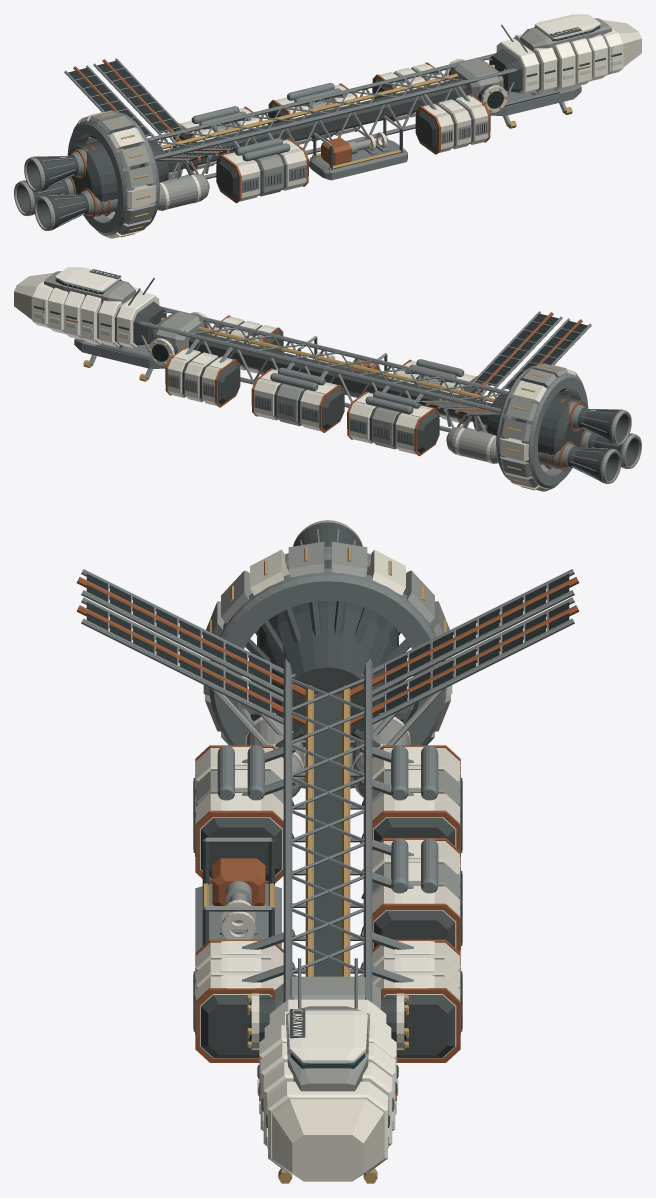
The model's file is caravan-v001.glb.
3 views of the same model, one above another, from view 1: azimuth 30°, elevation 25°; view 2: azimuth 150°, elevation 25°; view 3: azimuth 270°, elevation 25° (orthographic). The views are drawn at different scales.
Visible parts, largest first — view 1: caravan-iron, caravan-graphite, caravan-ash, caravan-chalk, caravan-porcelain, caravan-oxide, caravan-carbon, caravan-brass; view 2: caravan-iron, caravan-graphite, caravan-ash, caravan-chalk, caravan-porcelain, caravan-carbon, caravan-oxide, caravan-brass; view 3: caravan-iron, caravan-graphite, caravan-chalk, caravan-ash, caravan-porcelain, caravan-oxide, caravan-carbon, caravan-brass.
Part boxes in pixels (bbox=[...]): caravan-iron: bbox=[37, 24, 581, 234]; caravan-graphite: bbox=[17, 27, 621, 230]; caravan-ash: bbox=[14, 18, 611, 238]; caravan-chalk: bbox=[80, 20, 641, 238]; caravan-porcelain: bbox=[182, 14, 623, 164]; caravan-oxide: bbox=[69, 59, 590, 217]; caravan-carbon: bbox=[68, 60, 503, 161]; caravan-brass: bbox=[89, 62, 572, 237]; caravan-iron: bbox=[74, 277, 618, 487]; caravan-graphite: bbox=[34, 269, 638, 483]; caravan-ash: bbox=[44, 271, 641, 491]; caravan-chalk: bbox=[14, 273, 575, 491]; caravan-porcelain: bbox=[32, 267, 473, 417]; caravan-carbon: bbox=[152, 313, 587, 414]; caravan-oxide: bbox=[65, 312, 586, 470]; caravan-brass: bbox=[83, 315, 566, 490]; caravan-iron: bbox=[81, 529, 574, 1008]; caravan-graphite: bbox=[193, 522, 462, 1127]; caravan-chalk: bbox=[196, 549, 459, 1181]; caravan-ash: bbox=[107, 520, 548, 1091]; caravan-porcelain: bbox=[221, 747, 434, 1172]; caravan-oxide: bbox=[76, 577, 579, 1100]; caravan-carbon: bbox=[86, 574, 569, 1040]; caravan-brass: bbox=[202, 547, 453, 1183].
Size of the model in its own units: 536 by 97.16 by 194.
